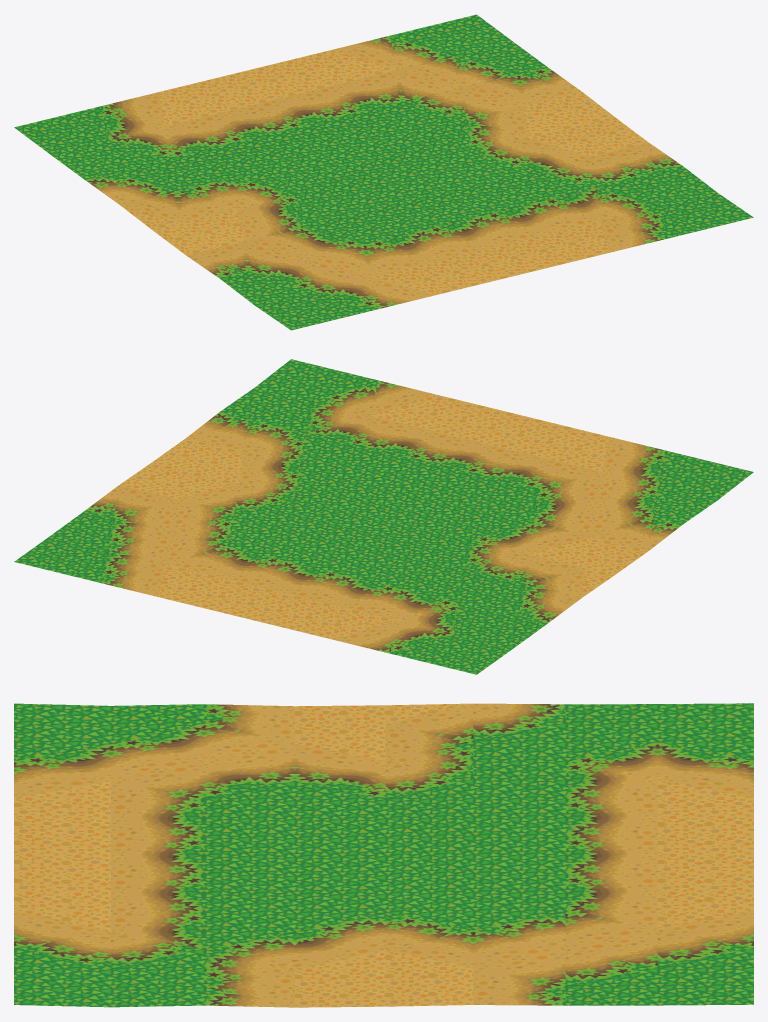
File: c_grd_f_3.001.glb
3 views of the same model, one above another, from view 1: azimuth 30°, elevation 25°; view 2: azimuth 150°, elevation 25°; view 3: azimuth 270°, elevation 25° (orthographic). The views are drawn at different scales.
Visible parts, largest first — view 1: c_grd_f_3.001; view 2: c_grd_f_3.001; view 3: c_grd_f_3.001.
Part boxes in pixels (bbox=[...]): c_grd_f_3.001: bbox=[14, 14, 753, 330]; c_grd_f_3.001: bbox=[14, 359, 753, 674]; c_grd_f_3.001: bbox=[14, 703, 753, 1007].
Bounding box in the file's own units: 32 × 0.1406 × 33.2.
3 materials, 3 textured.
